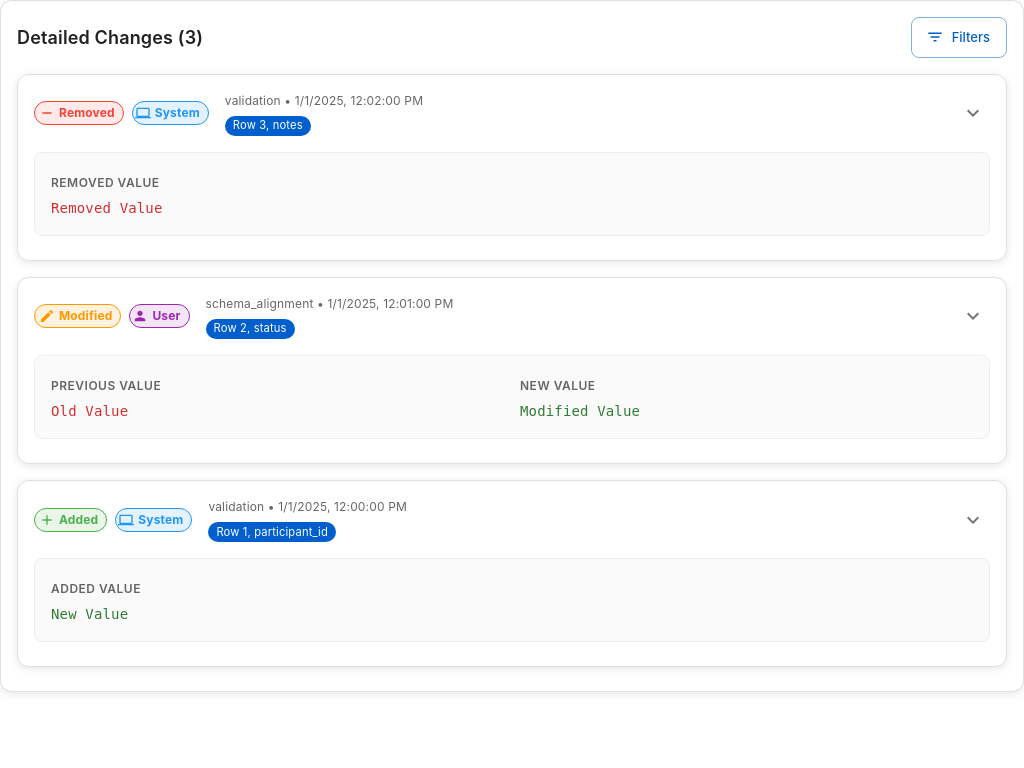
DetailedChangesList › Filtering › should expand filters panel when filters button is clicked
This screenshot has width=1024, height=768.
What coordinates should you click on to do the following:
click the button "Filters"
I would click on:
 (959, 37)
Its box is [911,17,1007,58].
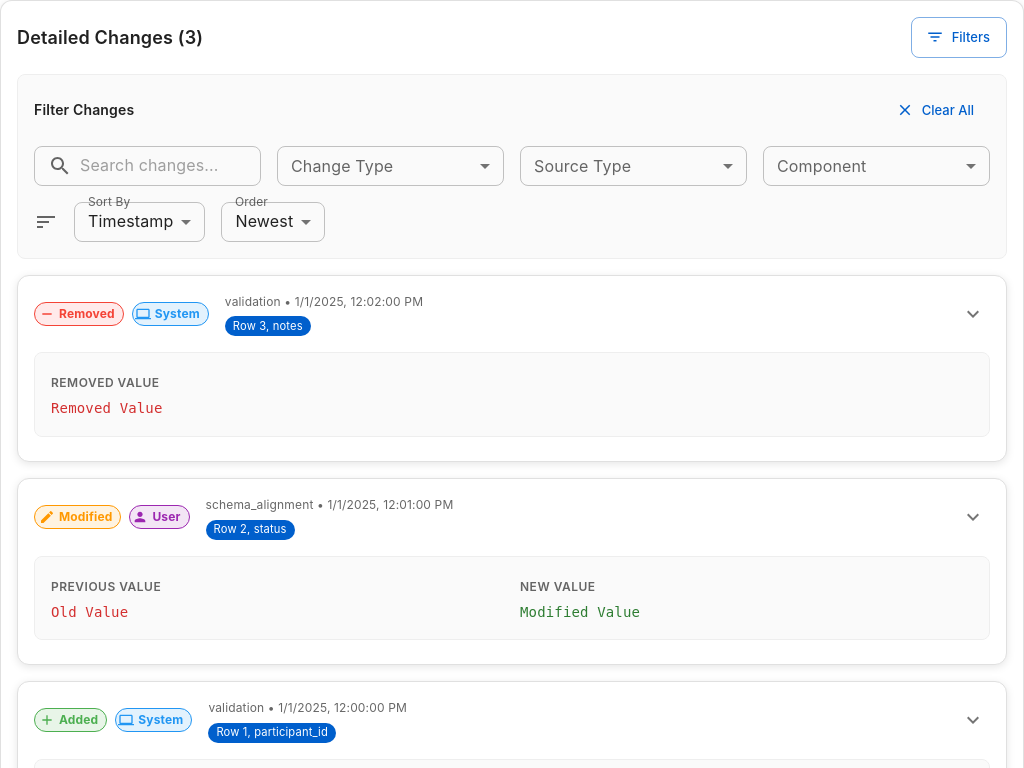
Expected: the heading "Filter Changes" is shown, [34,99,134,121]
Expected: the field with placeholder "Search changes..." is shown, [80,146,261,186]
